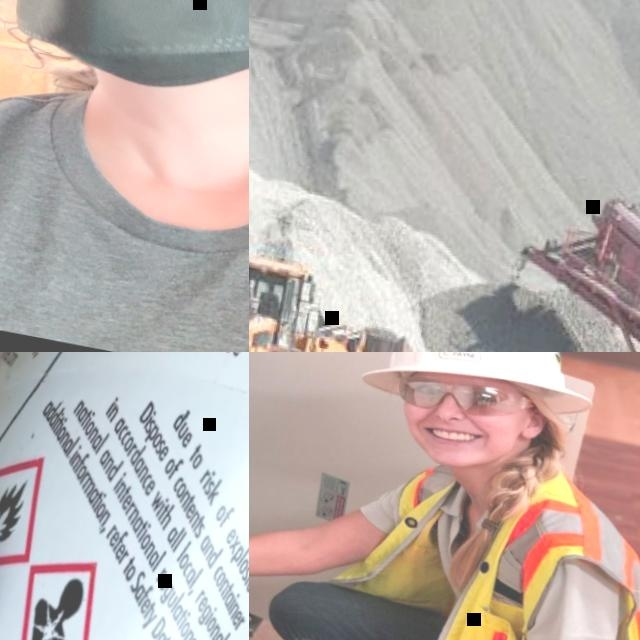Hardhat: (356, 352, 609, 428)
Mask: (0, 0, 249, 118)
NO-Mask: (412, 417, 512, 474)
NO-Safety Vest: (0, 67, 249, 352)
Person: (249, 352, 640, 640), (0, 0, 249, 352), (254, 278, 282, 320)
Safety Vest: (249, 432, 640, 640)
machinery: (249, 216, 456, 352), (495, 176, 640, 352)
